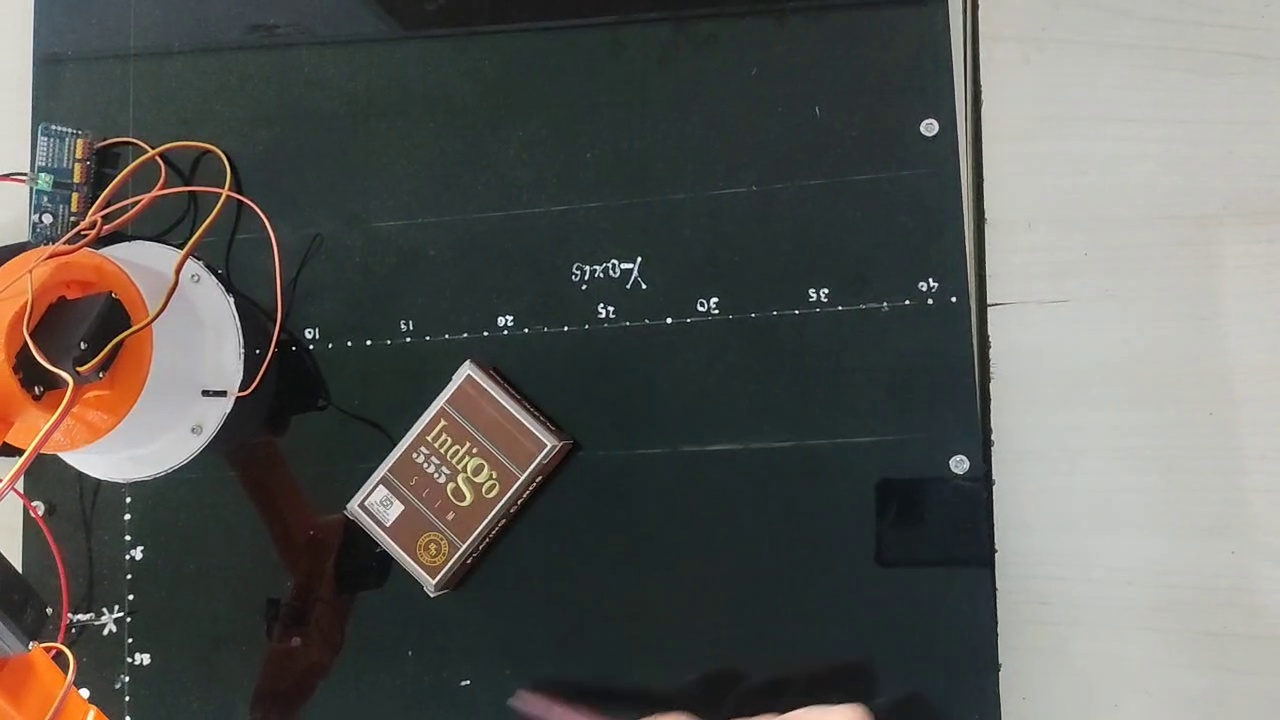BEX: (351, 369, 548, 580)
